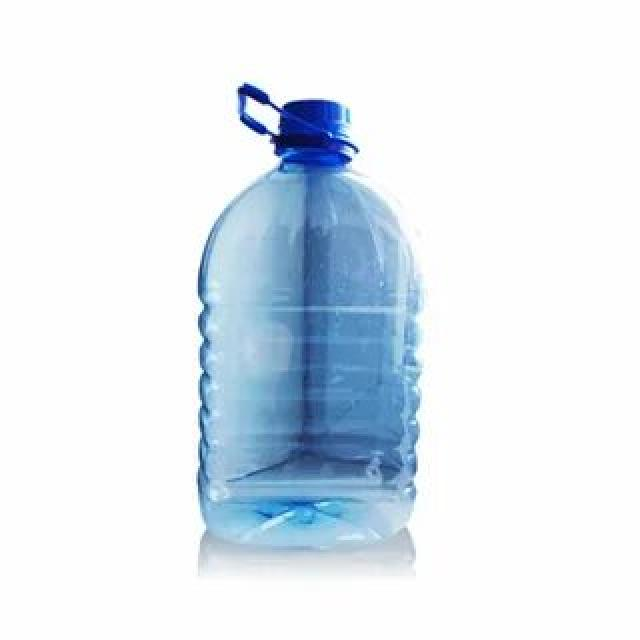blue: (195, 144, 418, 544)
